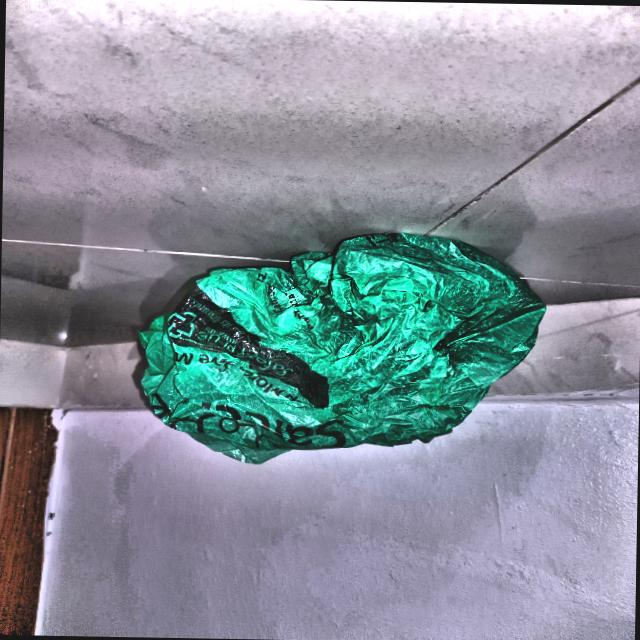plastic bag: (128, 228, 546, 471)
